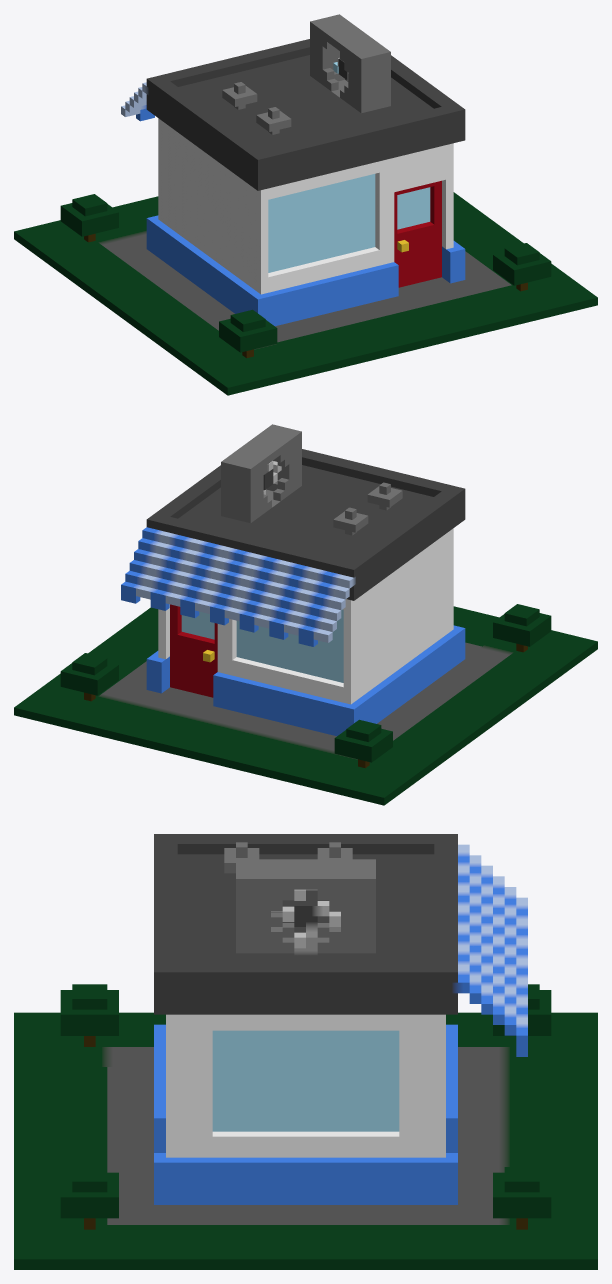
The model's file is Building1.dae.
3 views of the same model, one above another, from view 1: azimuth 30°, elevation 25°; view 2: azimuth 150°, elevation 25°; view 3: azimuth 270°, elevation 25° (orthographic). The views are drawn at different scales.
Parts seen in each view (by area): view 1: Matrix; view 2: Matrix; view 3: Matrix.
Part boxes in pixels (<box>): Matrix: <box>14,14,597,395</box>; Matrix: <box>14,424,597,805</box>; Matrix: <box>14,834,597,1269</box>.
Bounding box in the file's own units: 50 × 29 × 50.
Materials: 1 (1 with a texture image).
